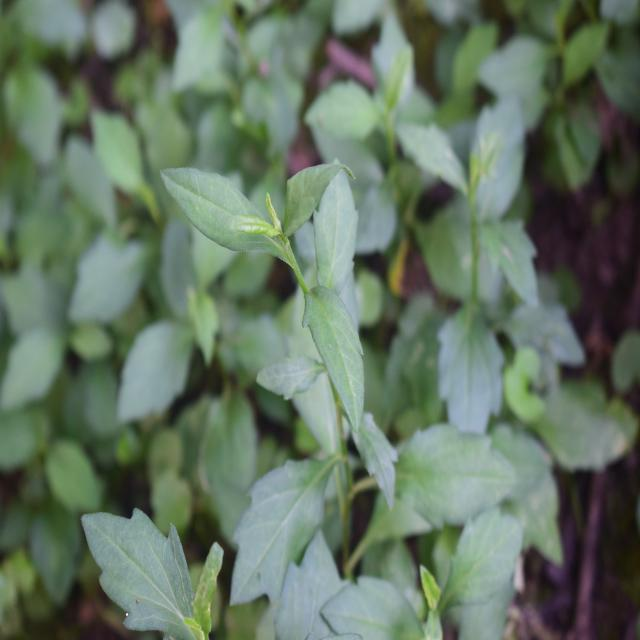Indian aster: (152, 139, 426, 509)
